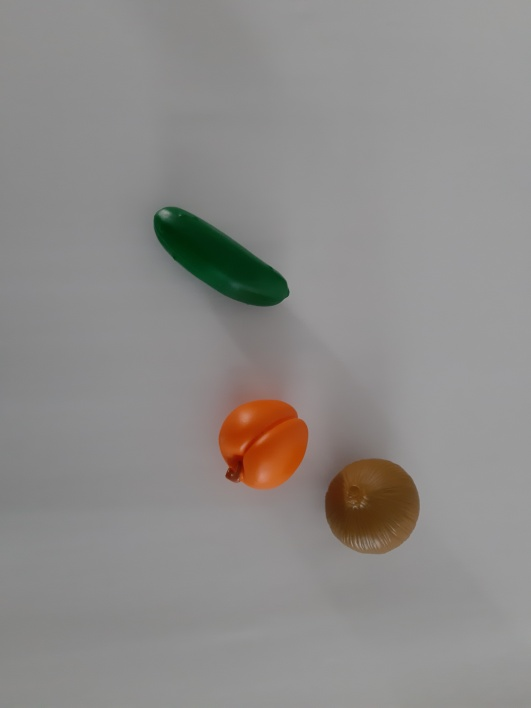apricot: (202, 385, 322, 504)
cucumber: (130, 187, 305, 328)
onion: (317, 447, 436, 569)
